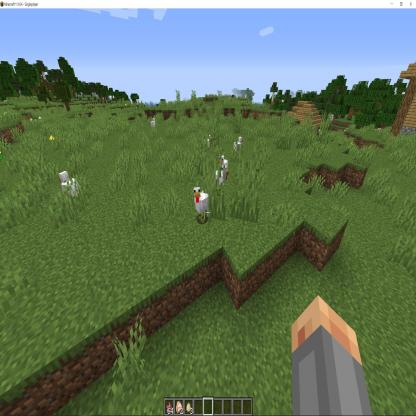minecraft-pigs: (57, 170, 83, 208), (190, 184, 212, 224), (215, 165, 228, 193), (233, 134, 244, 159), (148, 115, 158, 136), (204, 135, 214, 154), (219, 154, 228, 166)
